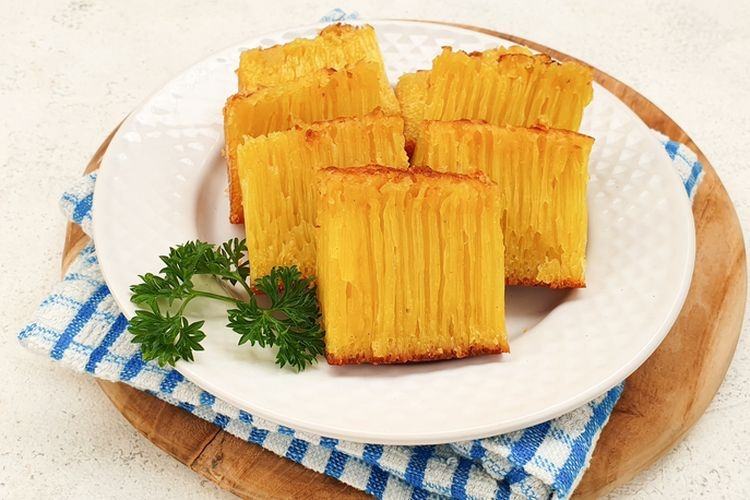bika_ambon: (203, 31, 636, 379), (314, 166, 512, 357)
